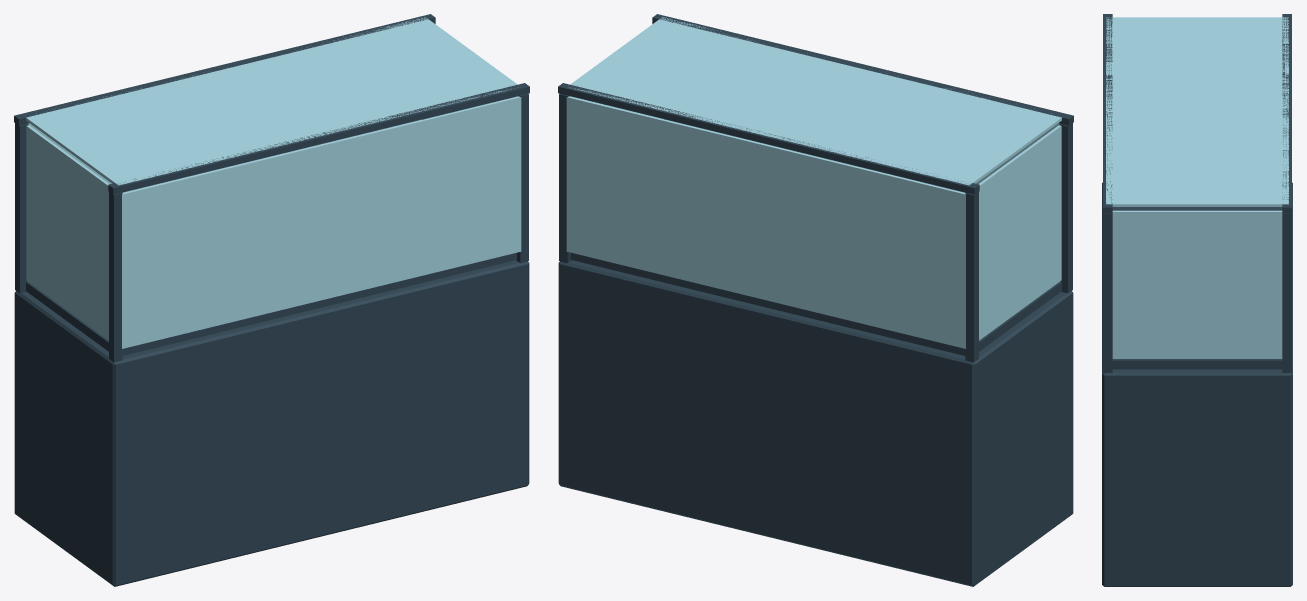
Rendered from display-case.v1.opaque.glb.
The picture shows the model from 3 angles, left to right: view 1: azimuth 30°, elevation 25°; view 2: azimuth 150°, elevation 25°; view 3: azimuth 270°, elevation 25°; orthographic projection. The views are drawn at different scales.
Visible parts, largest first — view 1: mesh_cabinet, mesh_glass_0.244, mesh_glass_top, mesh_glass_side_-0.575, mesh_top_frame_0.235, mesh_shelf, mesh_top_frame_-0.235, mesh_post_-0.585_0.235, mesh_post_-0.585_-0.235, mesh_post_0.585_0.235; view 2: mesh_cabinet, mesh_glass_-0.244, mesh_glass_top, mesh_glass_side_-0.575, mesh_top_frame_-0.235, mesh_shelf, mesh_top_frame_0.235, mesh_post_-0.585_-0.235, mesh_post_-0.585_0.235, mesh_post_0.585_-0.235; view 3: mesh_cabinet, mesh_glass_top, mesh_glass_side_0.575, mesh_shelf, mesh_post_0.585_-0.235, mesh_post_0.585_0.235, mesh_top_frame_-0.235, mesh_top_frame_0.235.
Part boxes in pixels (<box>): mesh_cabinet: <box>14,260,529,586</box>; mesh_glass_0.244: <box>122,96,521,348</box>; mesh_glass_top: <box>26,17,518,185</box>; mesh_glass_side_-0.575: <box>26,125,109,340</box>; mesh_top_frame_0.235: <box>108,83,529,194</box>; mesh_shelf: <box>26,252,516,355</box>; mesh_top_frame_-0.235: <box>14,14,435,125</box>; mesh_post_-0.585_0.235: <box>109,192,122,362</box>; mesh_post_-0.585_-0.235: <box>15,123,28,293</box>; mesh_post_0.585_0.235: <box>516,93,528,263</box>; mesh_cabinet: <box>558,260,1073,586</box>; mesh_glass_-0.244: <box>566,96,965,348</box>; mesh_glass_top: <box>569,17,1061,185</box>; mesh_glass_side_-0.575: <box>978,125,1061,340</box>; mesh_top_frame_-0.235: <box>558,83,979,194</box>; mesh_shelf: <box>571,252,1061,355</box>; mesh_top_frame_0.235: <box>652,14,1073,125</box>; mesh_post_-0.585_-0.235: <box>965,192,978,362</box>; mesh_post_-0.585_0.235: <box>1059,123,1072,293</box>; mesh_post_0.585_-0.235: <box>559,93,571,263</box>; mesh_cabinet: <box>1102,182,1292,586</box>; mesh_glass_top: <box>1106,17,1288,206</box>; mesh_glass_side_0.575: <box>1112,210,1282,358</box>; mesh_shelf: <box>1112,207,1282,369</box>; mesh_post_0.585_-0.235: <box>1282,213,1291,372</box>; mesh_post_0.585_0.235: <box>1103,213,1112,372</box>; mesh_top_frame_-0.235: <box>1282,14,1291,213</box>; mesh_top_frame_0.235: <box>1103,14,1112,213</box>.
Bounding box in the file's own units: 1.2 × 1.1 × 0.5.
